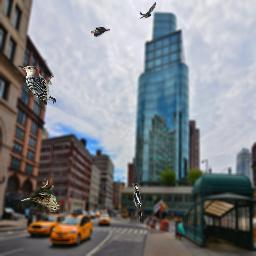Sparrow: (21, 178, 61, 212)
Swallow: (137, 2, 156, 19)
Woodpecker: (17, 65, 56, 105), (132, 183, 142, 223), (91, 27, 110, 37)
